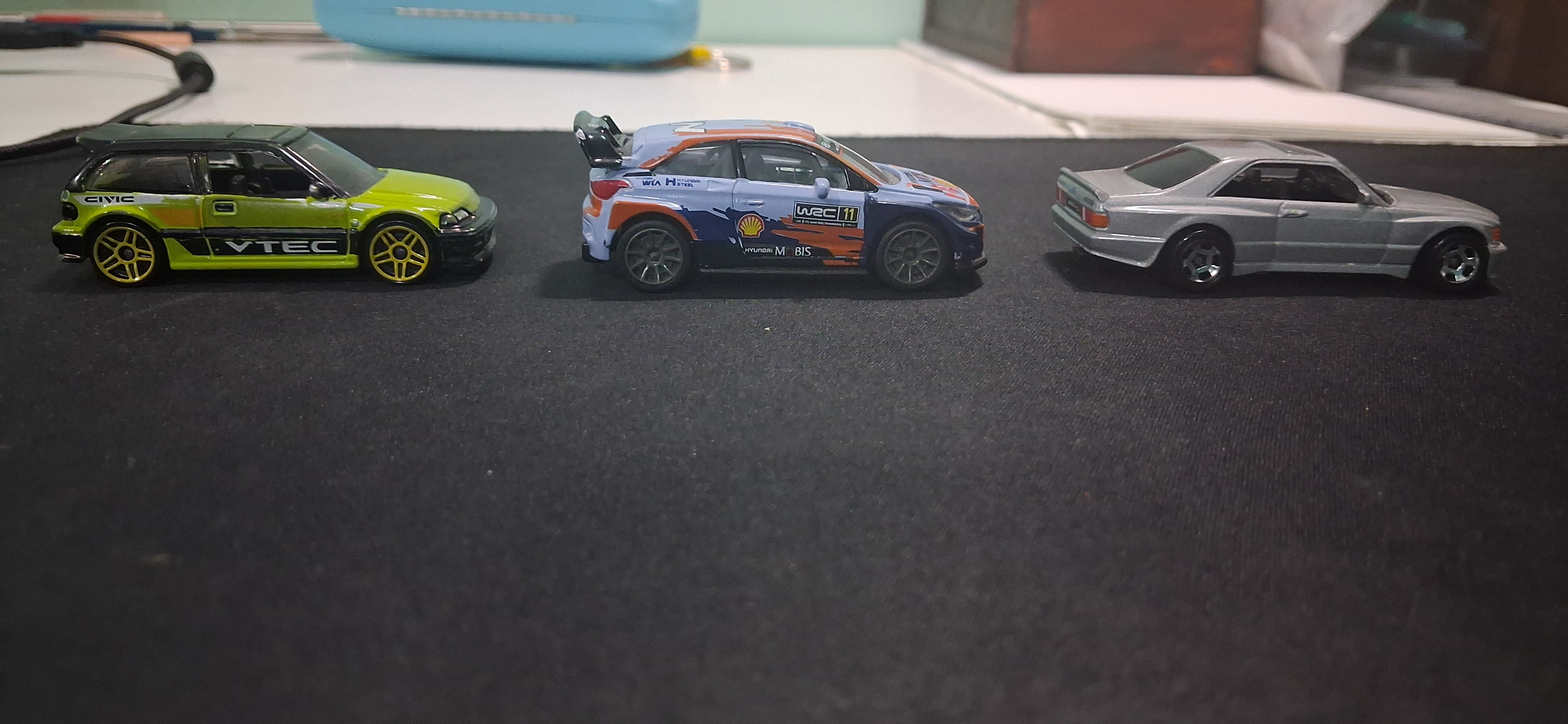Honda_Civic: (38, 102, 503, 307)
Hyundai_I20_WRC: (522, 97, 1003, 359)
Mercedes_Benz_560_SEC_AMG: (1031, 101, 1522, 333)
